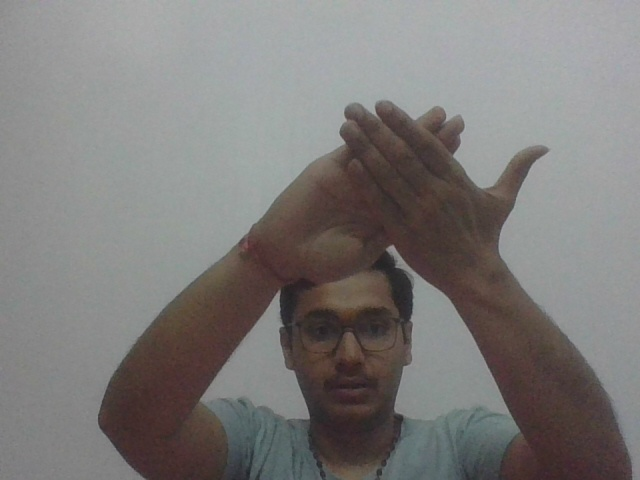H: (254, 97, 555, 282)
